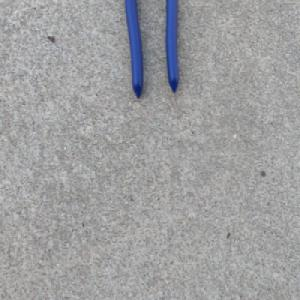Pliers: (125, 0, 183, 99)
